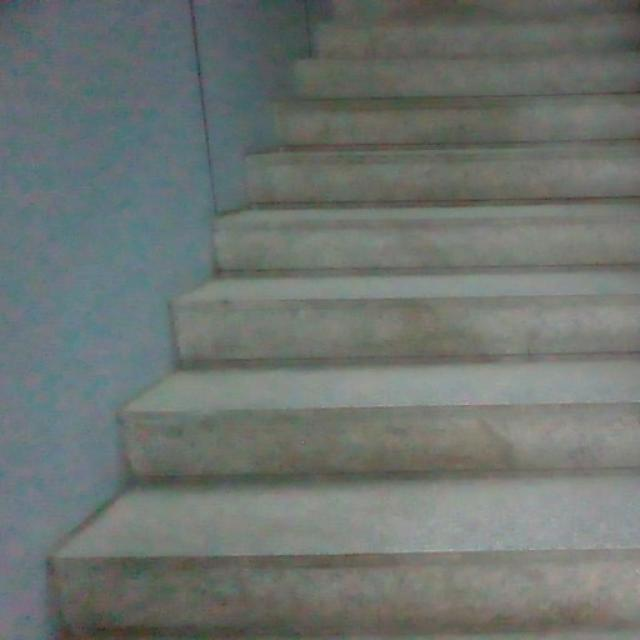Stairs: (45, 0, 639, 639)
